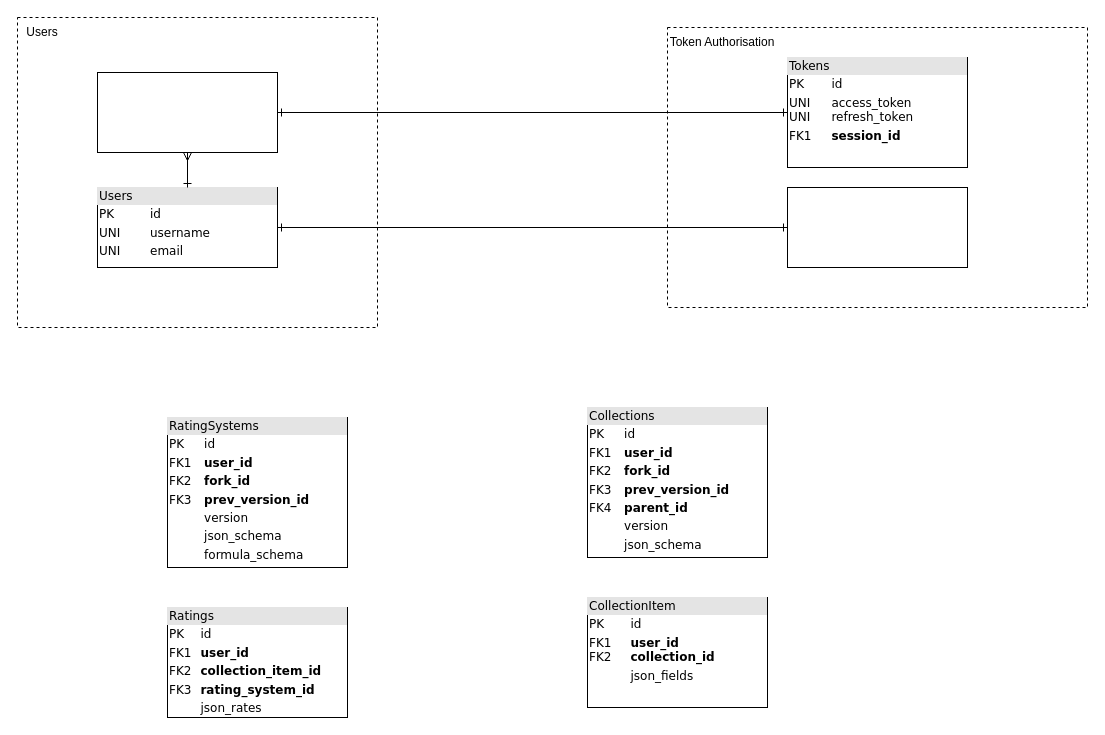
Some shapes in this 1105 by 735 pixel diagram are drawn without their labels. The shapes that lost their labels are listed below. From the top down, each one's box as (x1, y1, x2, y2) in pixels, then its label:
(96, 72, 278, 152): Sessions PK id UNI session_id FK1 user_id
(786, 186, 968, 268): Paswords PK id UNI hash FK1 user_id
